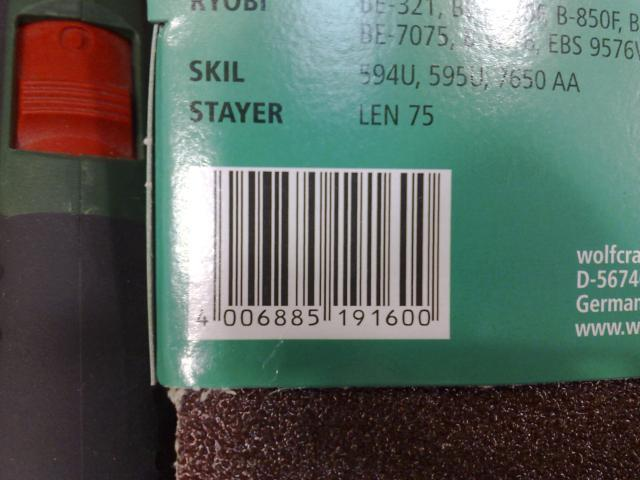Barcode: (189, 166, 450, 339)
